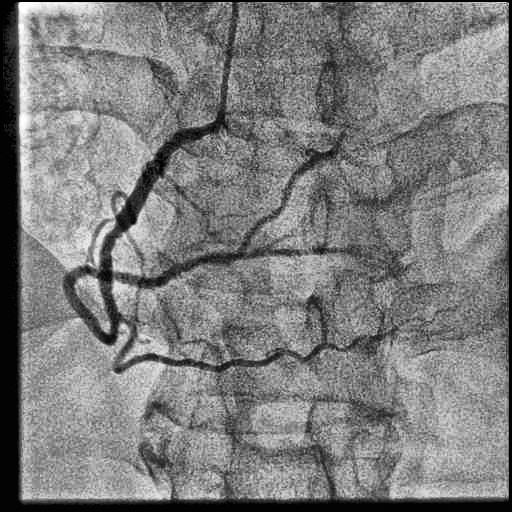pborca: (241, 128, 346, 250)
pda: (249, 245, 358, 258)
rca: (63, 127, 249, 345)
